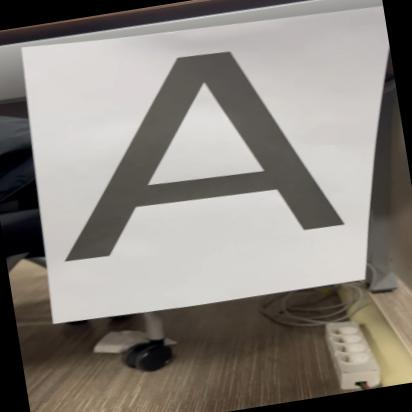seat: (32, 20, 359, 273)
